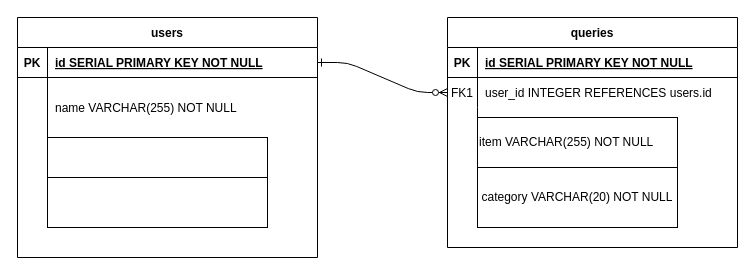
Image size: 755x275. Some labels were removed from this diagram. Each missing label, with the centre of its shape:
email VARCHAR(255) NOT NULL: the point at 157,157
password VARCHAR(255) NOT NULL: the point at 157,202
